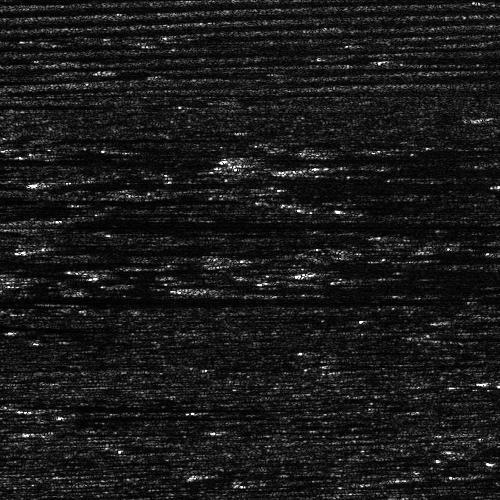object: (245, 165, 360, 178), (0, 249, 50, 276), (1, 176, 94, 187), (385, 331, 448, 340), (5, 402, 68, 411), (11, 133, 74, 140), (0, 221, 46, 228), (466, 114, 500, 119), (27, 245, 68, 248), (27, 429, 58, 432)
shadow: (47, 176, 423, 187), (0, 249, 118, 276), (303, 165, 500, 178), (0, 194, 243, 203), (10, 221, 305, 228), (37, 402, 265, 411), (43, 133, 265, 140), (417, 331, 500, 340), (0, 100, 103, 107), (0, 199, 55, 210), (0, 157, 120, 162), (43, 429, 201, 432), (48, 245, 197, 248), (0, 205, 26, 212), (487, 114, 500, 119)
